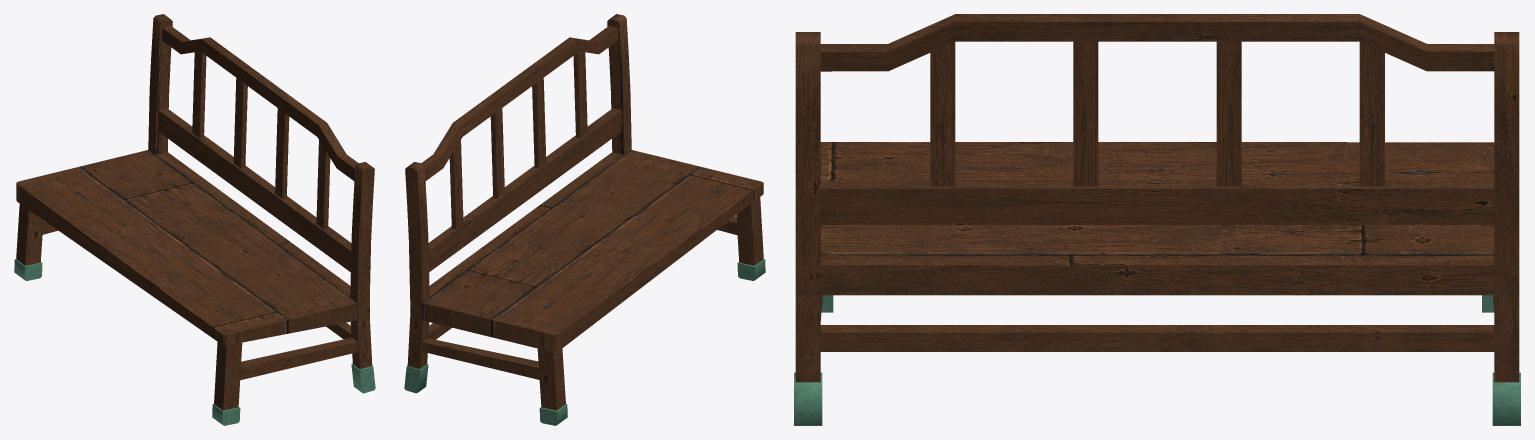
Rendered from PG_Bench.fbx.
3 views of the same model, side by side, from view 1: azimuth 30°, elevation 25°; view 2: azimuth 150°, elevation 25°; view 3: azimuth 270°, elevation 25° (orthographic). The views are drawn at different scales.
Parts seen in each view (by area): view 1: PG_Bench; view 2: PG_Bench; view 3: PG_Bench.
Boxes of the visible parts, <box> form: PG_Bench: <box>14,14,375,425</box>; PG_Bench: <box>404,14,765,425</box>; PG_Bench: <box>794,14,1520,425</box>.
Size of the model in its own units: 69.76 by 103 by 167.
